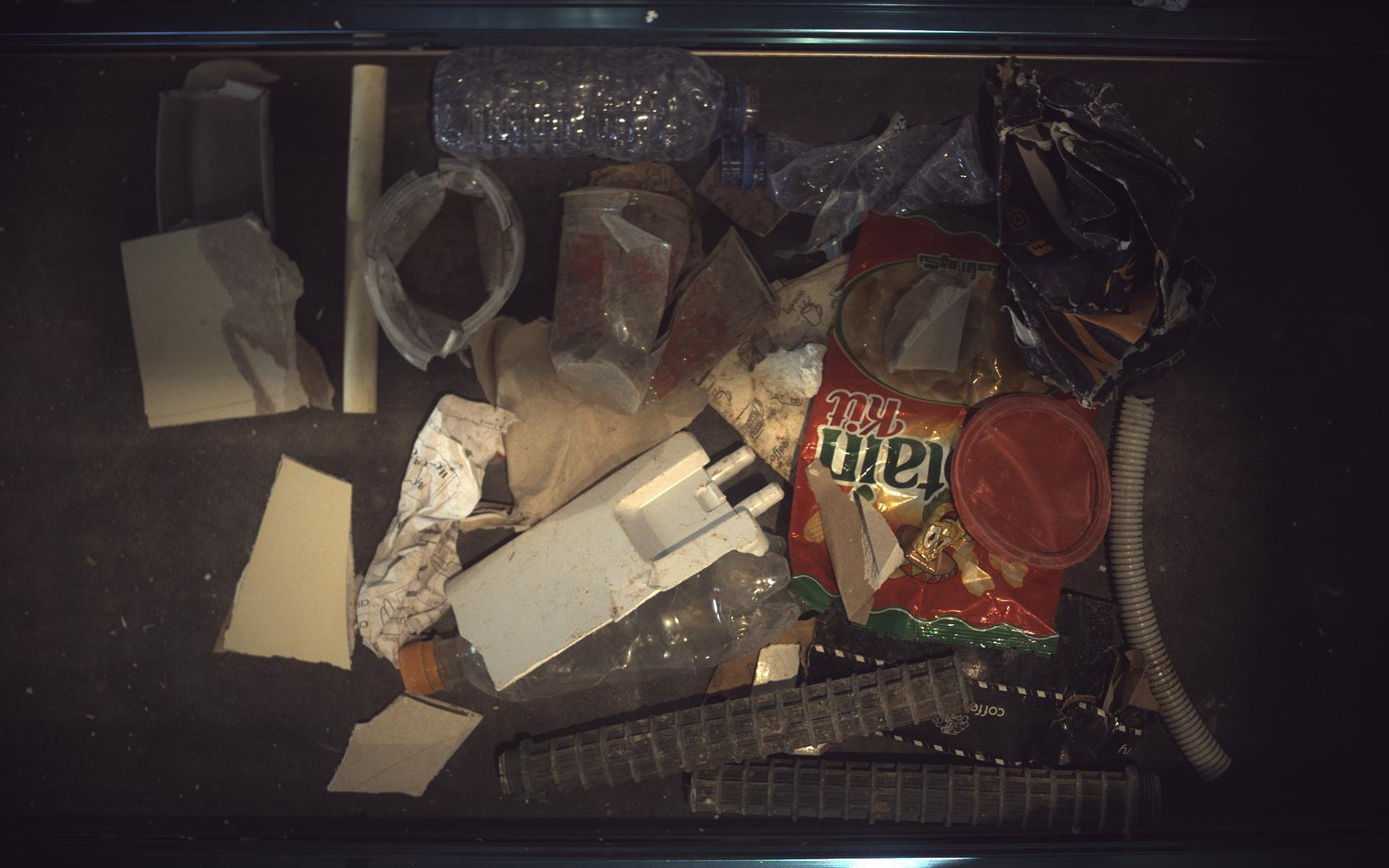foam: (755, 343, 828, 399)
general_w: (790, 209, 1064, 654), (981, 59, 1218, 407), (807, 591, 1160, 770), (399, 552, 803, 703), (462, 316, 708, 532), (551, 185, 776, 414), (357, 394, 515, 664), (723, 112, 997, 258), (433, 46, 759, 161), (365, 158, 525, 369), (703, 254, 851, 480), (953, 395, 1114, 569), (590, 161, 705, 276), (708, 618, 817, 697), (793, 746, 829, 757)
gypsum_board: (120, 215, 331, 427), (215, 456, 354, 670), (807, 460, 905, 625), (327, 695, 483, 798), (885, 271, 973, 373), (697, 158, 789, 237)
pipes: (1111, 396, 1234, 782), (342, 63, 387, 414)
plastic: (446, 433, 785, 692), (498, 658, 974, 801), (690, 758, 1163, 835), (156, 59, 279, 231)
